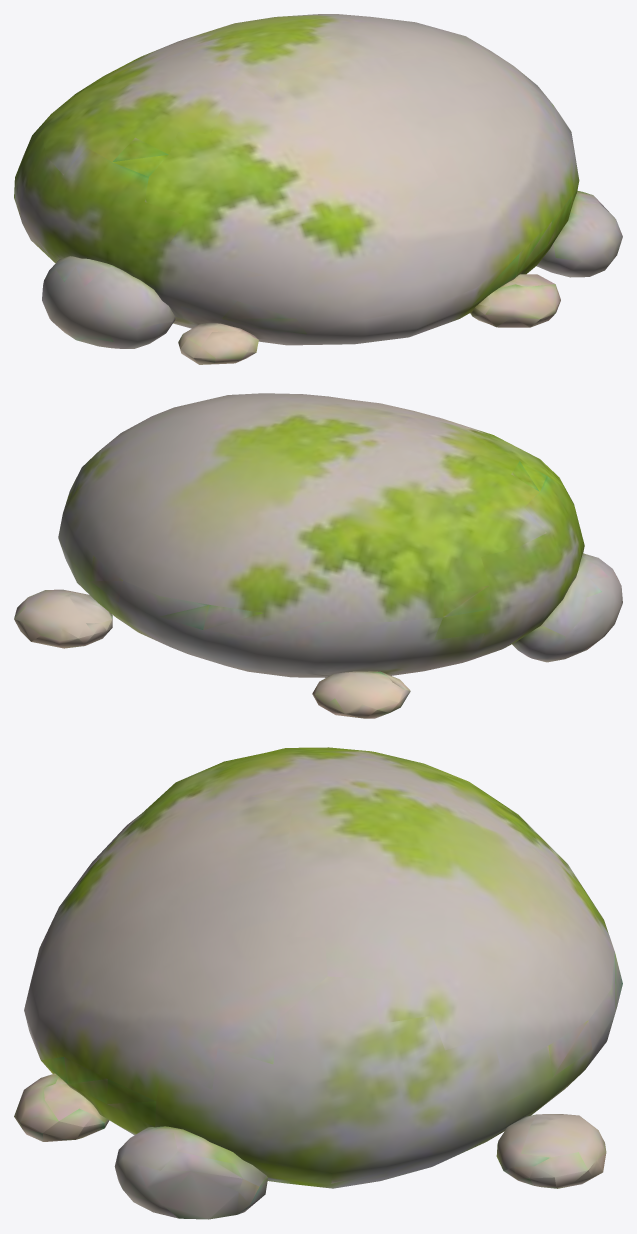
File: roca_rio_2.glb
3 renders of one model, top to bottom at view 1: azimuth 30°, elevation 25°; view 2: azimuth 150°, elevation 25°; view 3: azimuth 270°, elevation 25°, orthographic. The views are drawn at different scales.
Parts seen in each view (by area): view 1: roca_rio_2_malla; view 2: roca_rio_2_malla; view 3: roca_rio_2_malla.
Boxes of the visible parts, x1,y1,x2,y2 form: roca_rio_2_malla: (14, 14, 622, 364); roca_rio_2_malla: (14, 393, 622, 718); roca_rio_2_malla: (14, 747, 622, 1219).
Size of the model in its own units: 0.3638 by 0.1631 by 0.3084.
1 material, 1 textured.
